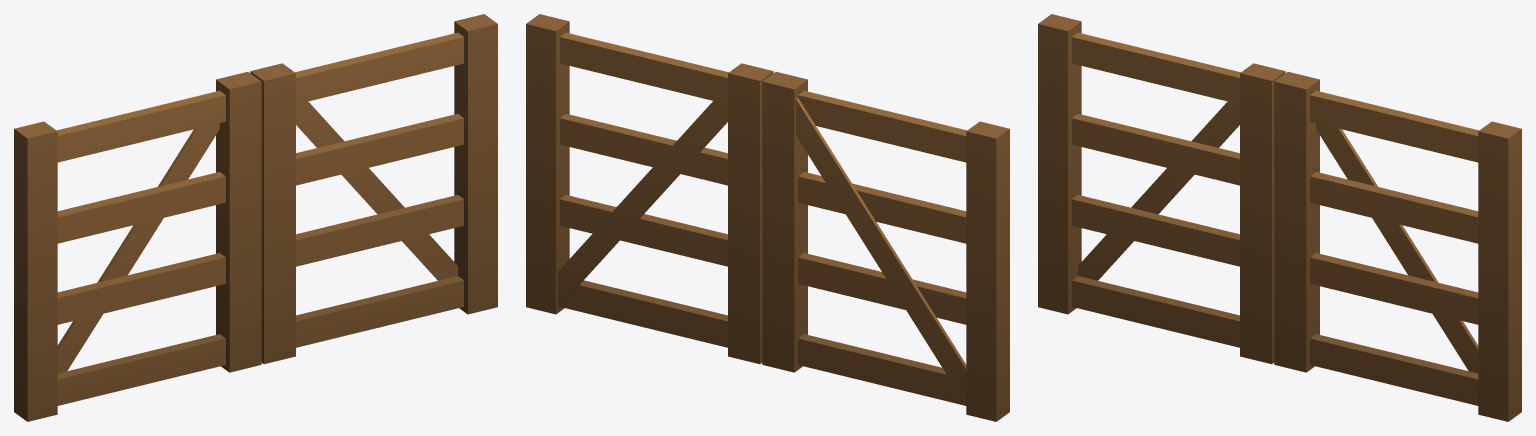
The model's file is Bld_01_Fence_Wood_Gate_Double_Handle_01.obj.
The picture shows the model from 3 angles, left to right: view 1: azimuth 30°, elevation 25°; view 2: azimuth 150°, elevation 25°; view 3: azimuth 330°, elevation 25°; orthographic projection.
Visible parts, largest first — view 1: Bld_01_Fence_Wood_Gate_Double_Left_01, Bld_01_Fence_Wood_Gate_Double_Right_01; view 2: Bld_01_Fence_Wood_Gate_Double_Left_01, Bld_01_Fence_Wood_Gate_Double_Right_01; view 3: Bld_01_Fence_Wood_Gate_Double_Right_01, Bld_01_Fence_Wood_Gate_Double_Left_01.
Boxes of the visible parts, x1=… form: Bld_01_Fence_Wood_Gate_Double_Left_01: x1=14, y1=71, x2=261, y2=421; Bld_01_Fence_Wood_Gate_Double_Right_01: x1=250, y1=14, x2=497, y2=364; Bld_01_Fence_Wood_Gate_Double_Left_01: x1=762, y1=71, x2=1009, y2=421; Bld_01_Fence_Wood_Gate_Double_Right_01: x1=526, y1=14, x2=773, y2=364; Bld_01_Fence_Wood_Gate_Double_Right_01: x1=1274, y1=71, x2=1521, y2=421; Bld_01_Fence_Wood_Gate_Double_Left_01: x1=1038, y1=14, x2=1285, y2=364.
Bounding box in the file's own units: 1.8 × 1.04 × 0.0898.
Materials: 1 (1 with a texture image).
